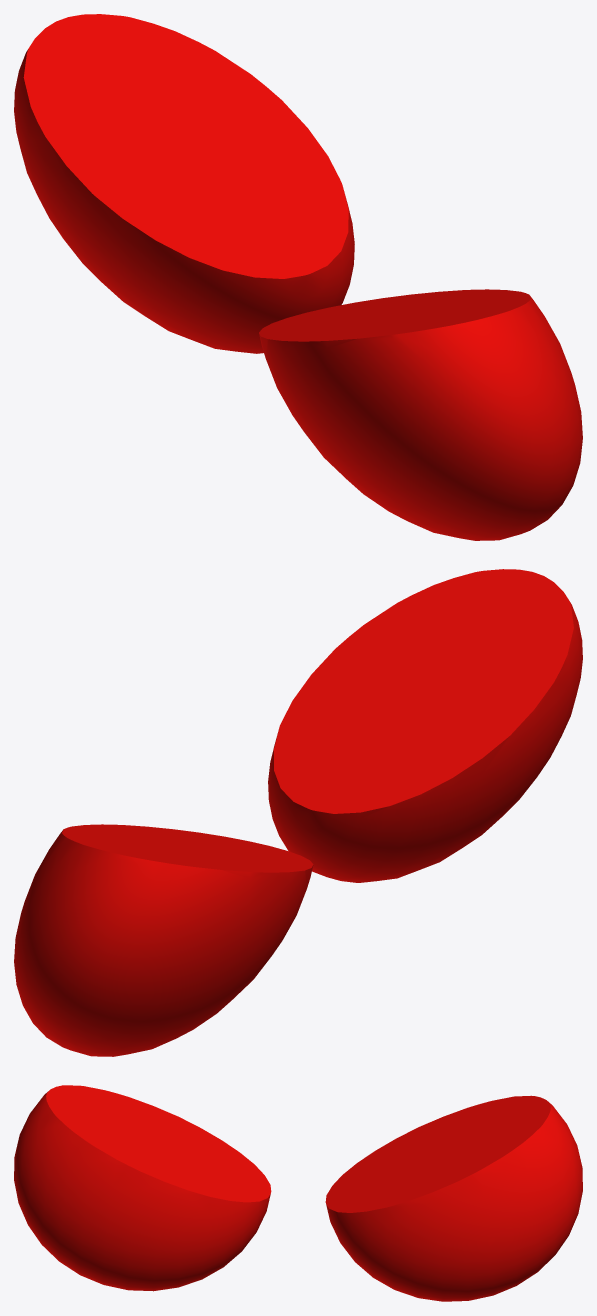
File: eyes2.fbx
The picture shows the model from 3 angles, top to bottom: view 1: azimuth 30°, elevation 25°; view 2: azimuth 150°, elevation 25°; view 3: azimuth 270°, elevation 25°; orthographic projection. The views are drawn at different scales.
Visible parts, largest first — view 1: Sphere.001, Sphere; view 2: Sphere, Sphere.001; view 3: Sphere, Sphere.001.
Boxes of the visible parts, x1,y1,x2,y2 form: Sphere.001: (14,14,354,353); Sphere: (259,289,582,540); Sphere: (268,569,582,882); Sphere.001: (14,824,313,1056); Sphere: (14,1085,271,1291); Sphere.001: (325,1095,582,1301).
Size of the model in its own units: 150 by 145 by 440.
